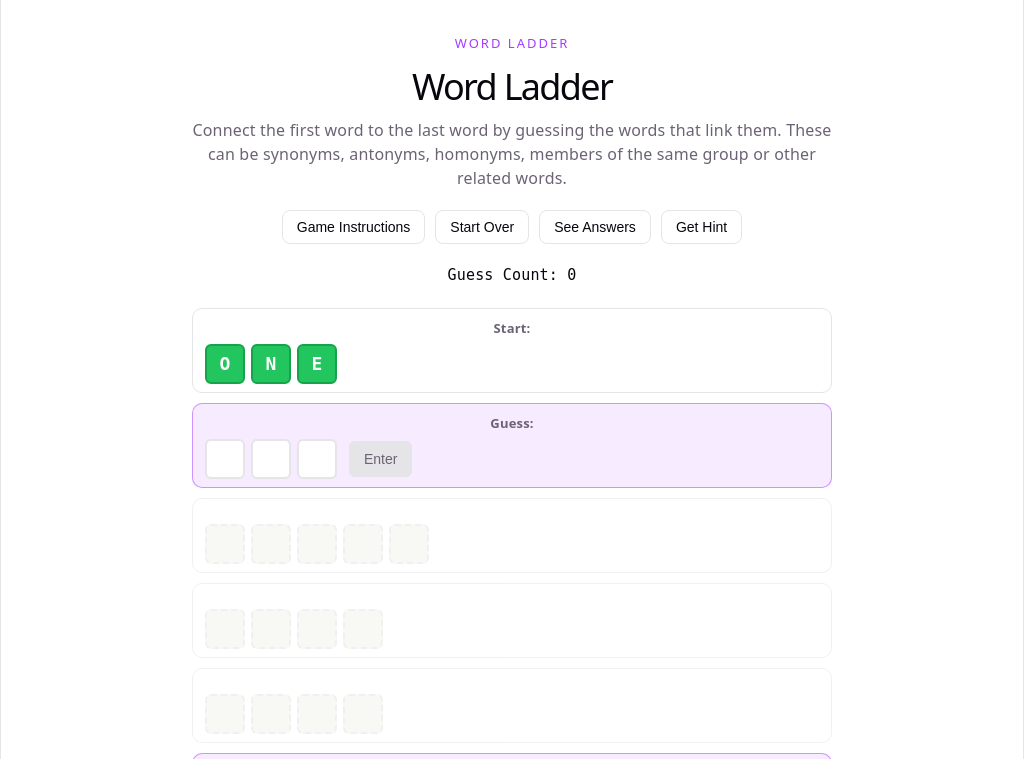
Test: App (Word Ladder game) › reveals the full ladder and disables further play when giving up
This screenshot has width=1024, height=759.
Click the button "See Answers": [595, 227] box x1=539 y1=210 x2=651 y2=244
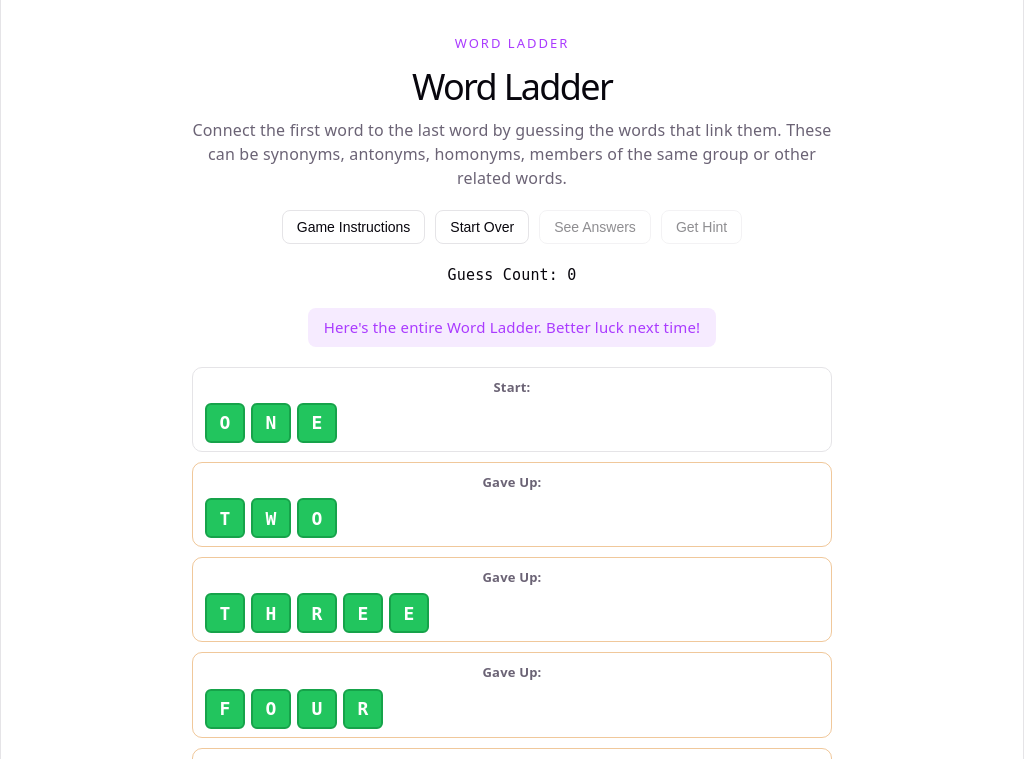
Result: the text "Here's the entire Word Ladder. Better luck next time!" is shown at x1=308 y1=308 x2=716 y2=347
Result: the button "Get Hint" is disabled at x1=661 y1=210 x2=742 y2=244
Result: the button "See Answers" is disabled at x1=539 y1=210 x2=651 y2=244
